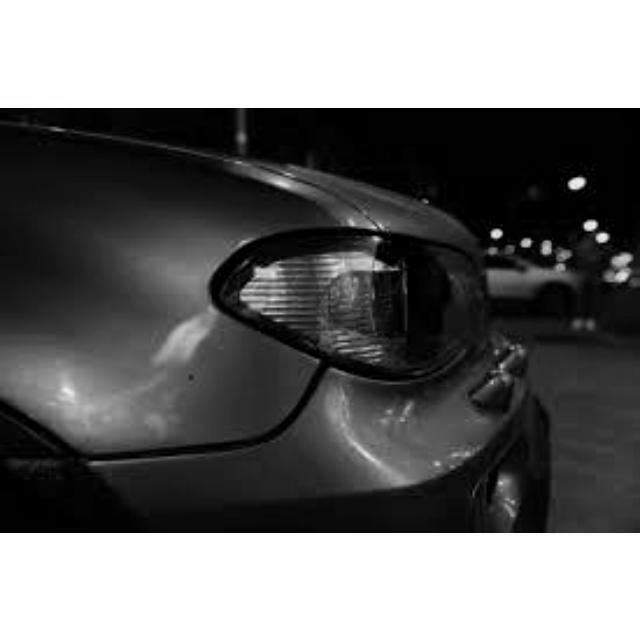Headlight-damage: (201, 212, 494, 393)
